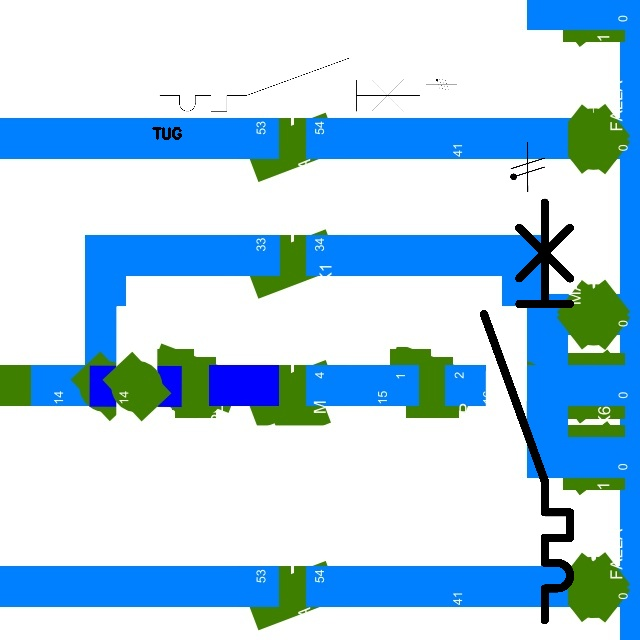interruptor_termomagnetico: (473, 191, 581, 631), (153, 51, 426, 118)
